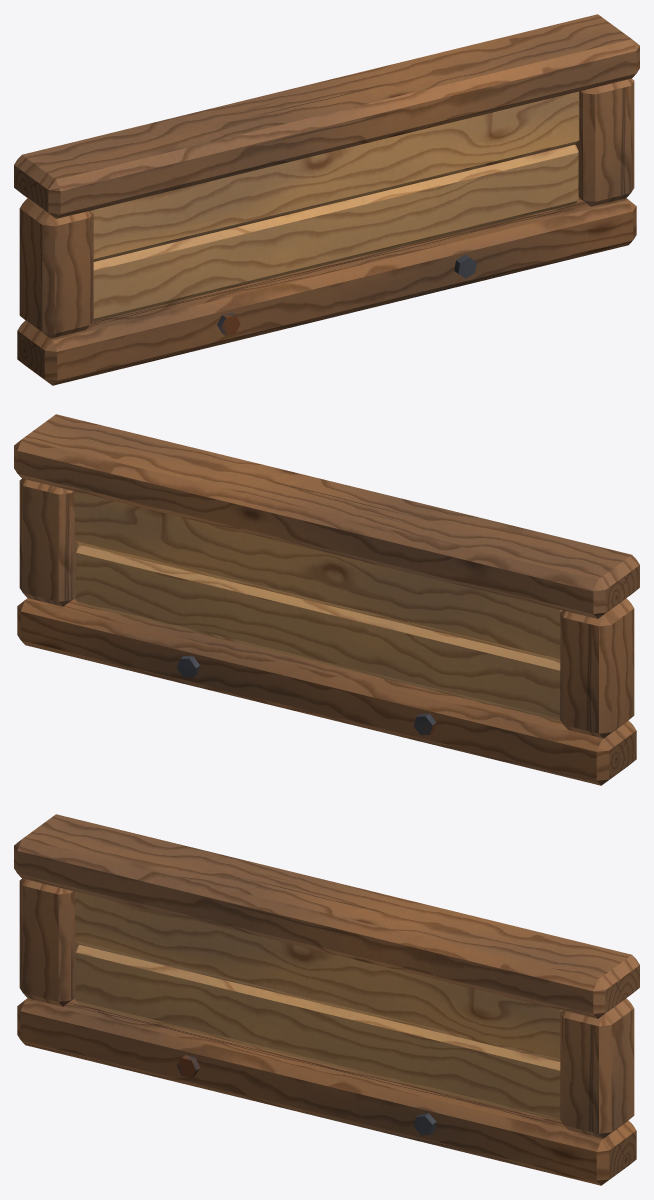
Rendered from alcak_duvar.glb.
The picture shows the model from 3 angles, top to bottom: view 1: azimuth 30°, elevation 25°; view 2: azimuth 150°, elevation 25°; view 3: azimuth 330°, elevation 25°; orthographic projection.
Visible parts, largest first — view 1: alcak_duvar; view 2: alcak_duvar; view 3: alcak_duvar.
Part boxes in pixels (x1=…): alcak_duvar: x1=14, y1=14, x2=639, y2=385; alcak_duvar: x1=14, y1=414, x2=639, y2=785; alcak_duvar: x1=14, y1=814, x2=639, y2=1185.
Size of the model in its own units: 3 by 1.01 by 0.39.
Materials: 1 (1 with a texture image).
